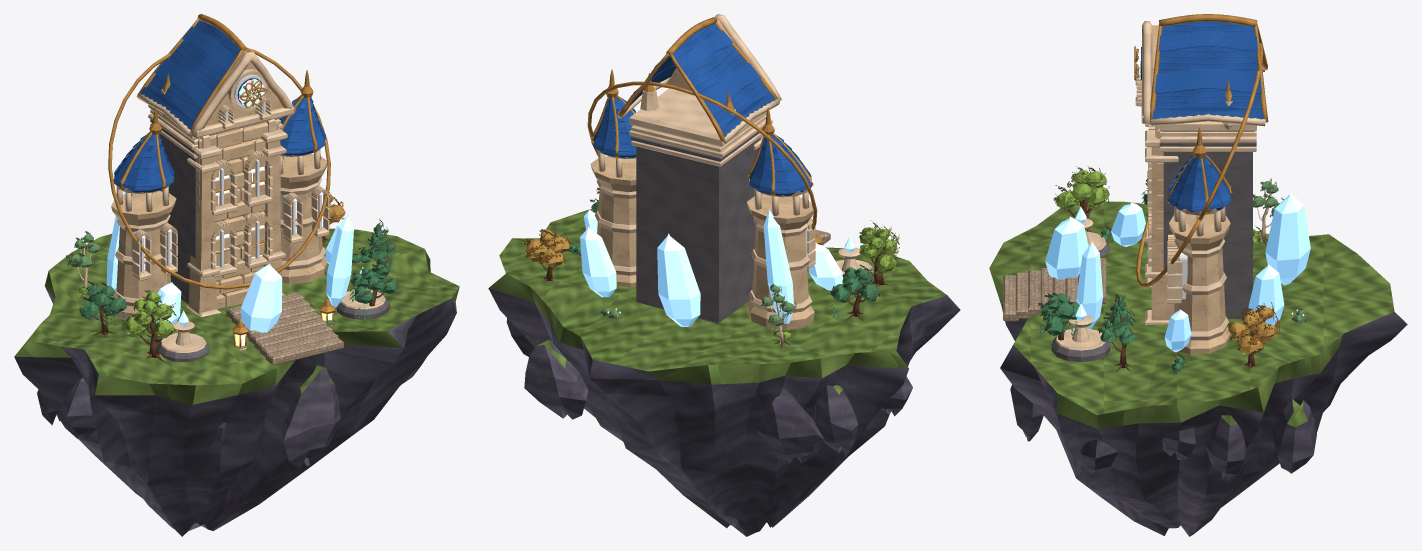
Rendered from island-4-low.glb.
3 views of the same model, side by side, from view 1: azimuth 30°, elevation 25°; view 2: azimuth 150°, elevation 25°; view 3: azimuth 270°, elevation 25° (orthographic). The views are drawn at different scales.
Parts seen in each view (by area): view 1: Stratified cliffs and meadow / cliff, Stratified cliffs and meadow / top, Architecture / stone, Architecture / trim, Architecture / roof, Architecture / gold, Architecture / gem, Canopy oak / leaves, Architecture / joint, Architecture / paving, Canopy oak / sprays, Architecture / iron (+2 smaller); view 2: Stratified cliffs and meadow / cliff, Stratified cliffs and meadow / top, Architecture / joint, Architecture / trim, Architecture / roof, Architecture / stone, Architecture / gem, Architecture / gold, Canopy oak / leaves, Canopy oak / sprays, Canopy oak / wood; view 3: Stratified cliffs and meadow / top, Stratified cliffs and meadow / cliff, Architecture / roof, Architecture / trim, Architecture / gem, Architecture / stone, Architecture / joint, Canopy oak / leaves, Architecture / gold, Canopy oak / sprays, Architecture / paving, Canopy oak / wood.
Part boxes in pixels (x1,y1,x2,y2): Stratified cliffs and meadow / cliff: (14,287,456,536); Stratified cliffs and meadow / top: (14,228,459,404); Architecture / stone: (111,50,328,319); Architecture / trim: (77,51,385,352); Architecture / roof: (113,20,325,192); Architecture / gold: (108,14,334,348); Architecture / gem: (106,90,363,332); Canopy oak / leaves: (68,193,396,344); Architecture / joint: (150,119,389,361); Architecture / paving: (226,292,343,365); Canopy oak / sprays: (65,187,398,339); Architecture / iron: (140,101,332,349); Stratified cliffs and meadow / cliff: (488,288,960,536); Stratified cliffs and meadow / top: (488,208,946,394); Architecture / joint: (631,129,874,323); Architecture / trim: (593,14,873,343); Architecture / roof: (593,23,811,195); Architecture / stone: (590,19,814,329); Architecture / gem: (580,209,855,326); Architecture / gold: (587,17,821,244); Canopy oak / leaves: (524,200,897,340); Canopy oak / sprays: (523,187,899,340); Canopy oak / wood: (528,202,888,347); Stratified cliffs and meadow / top: (989,201,1394,429); Stratified cliffs and meadow / cliff: (1000,306,1407,536); Architecture / roof: (1152,21,1263,212); Architecture / trim: (1055,21,1271,350); Architecture / gem: (1045,60,1310,352); Architecture / stone: (1137,25,1230,354); Architecture / joint: (1051,142,1256,361); Canopy oak / leaves: (1039,170,1306,371); Architecture / gold: (1056,14,1268,295); Canopy oak / sprays: (1038,166,1309,373); Architecture / paving: (1003,258,1106,321); Canopy oak / wood: (1045,171,1275,371).
Size of the model in its own units: 6.15 by 7.03 by 4.97.
21 materials, 12 textured.
